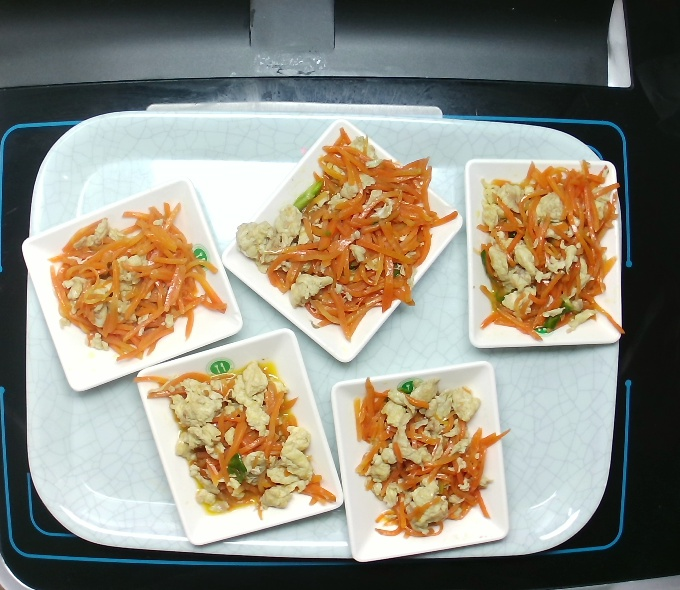wcq-HuLuoBoChaoDan: (237, 143, 436, 334), (50, 200, 213, 364), (165, 356, 321, 515), (476, 164, 615, 334), (354, 372, 491, 535)
